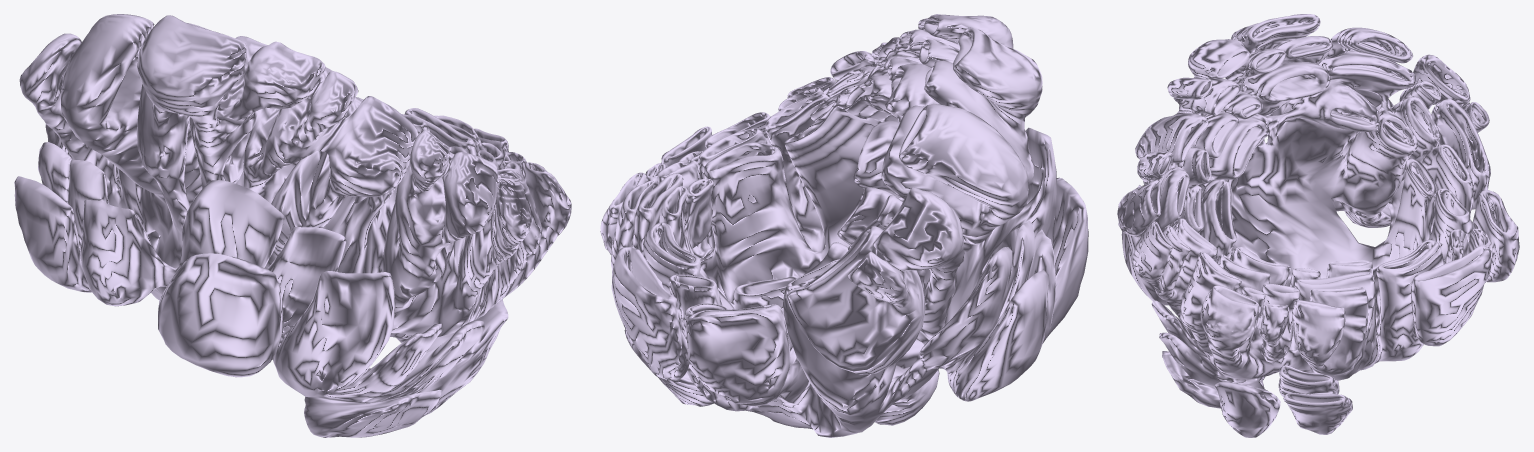
File: Endoplasmic_Reticulum.fbx
3 views of the same model, side by side, from view 1: azimuth 30°, elevation 25°; view 2: azimuth 150°, elevation 25°; view 3: azimuth 270°, elevation 25° (orthographic). The views are drawn at different scales.
Visible parts, largest first — view 1: Endoplasmic_reticulum; view 2: Endoplasmic_reticulum; view 3: Endoplasmic_reticulum.
Boxes of the visible parts, x1,y1,x2,y2 form: Endoplasmic_reticulum: (14,14,571,437); Endoplasmic_reticulum: (600,14,1088,437); Endoplasmic_reticulum: (1117,14,1519,437).
Bounding box in the file's own units: 2235 × 1988 × 2134.
